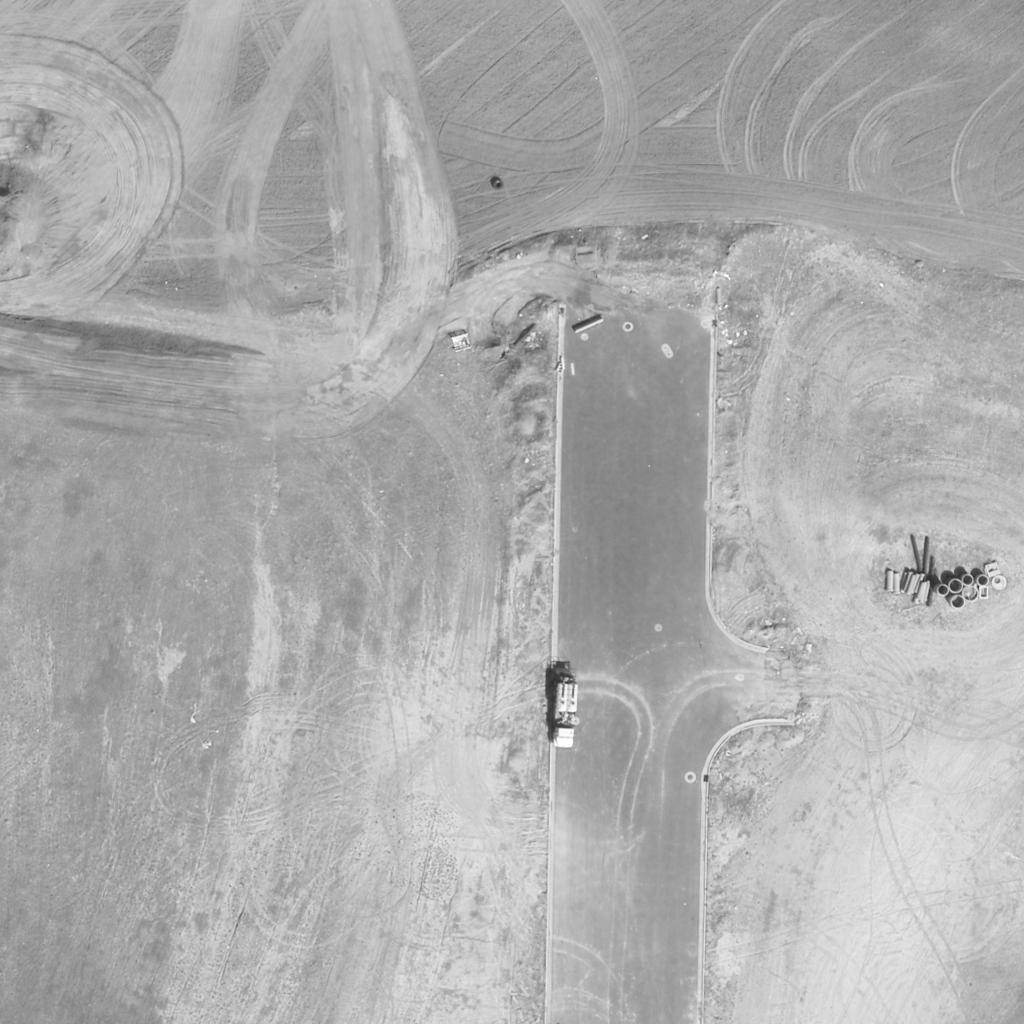vehicle: (551, 672, 579, 748)
